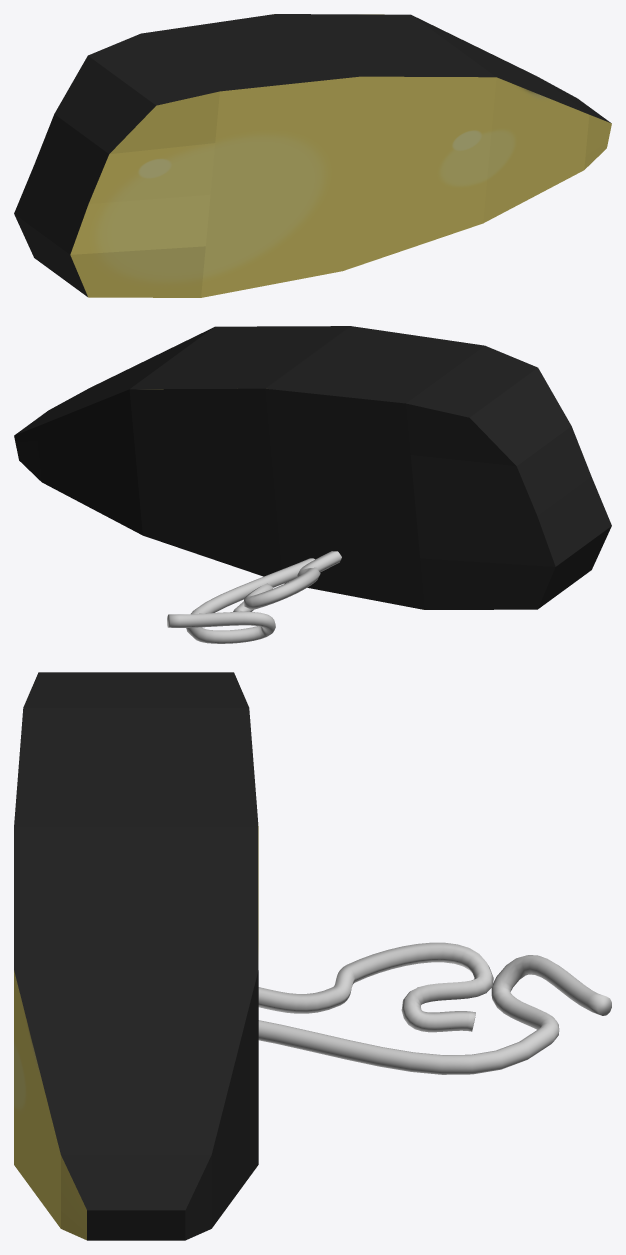
File: koplamp.fbx
3 views of the same model, one above another, from view 1: azimuth 30°, elevation 25°; view 2: azimuth 150°, elevation 25°; view 3: azimuth 270°, elevation 25° (orthographic). The views are drawn at different scales.
Visible parts, largest first — view 1: Cube; view 2: Cube, BézierCurve, BézierCurve.001; view 3: Cube, BézierCurve, BézierCurve.001.
Part boxes in pixels (box(x1,y1,x2,y2)): Cube: box(14, 14, 611, 297); Cube: box(14, 326, 611, 609); BézierCurve: box(167, 558, 314, 643); BézierCurve.001: box(233, 551, 341, 611); Cube: box(14, 672, 258, 1240); BézierCurve: box(258, 955, 611, 1074); BézierCurve.001: box(258, 942, 493, 1032).
Bounding box in the file's own units: 45.89 × 16.39 × 30.09.
